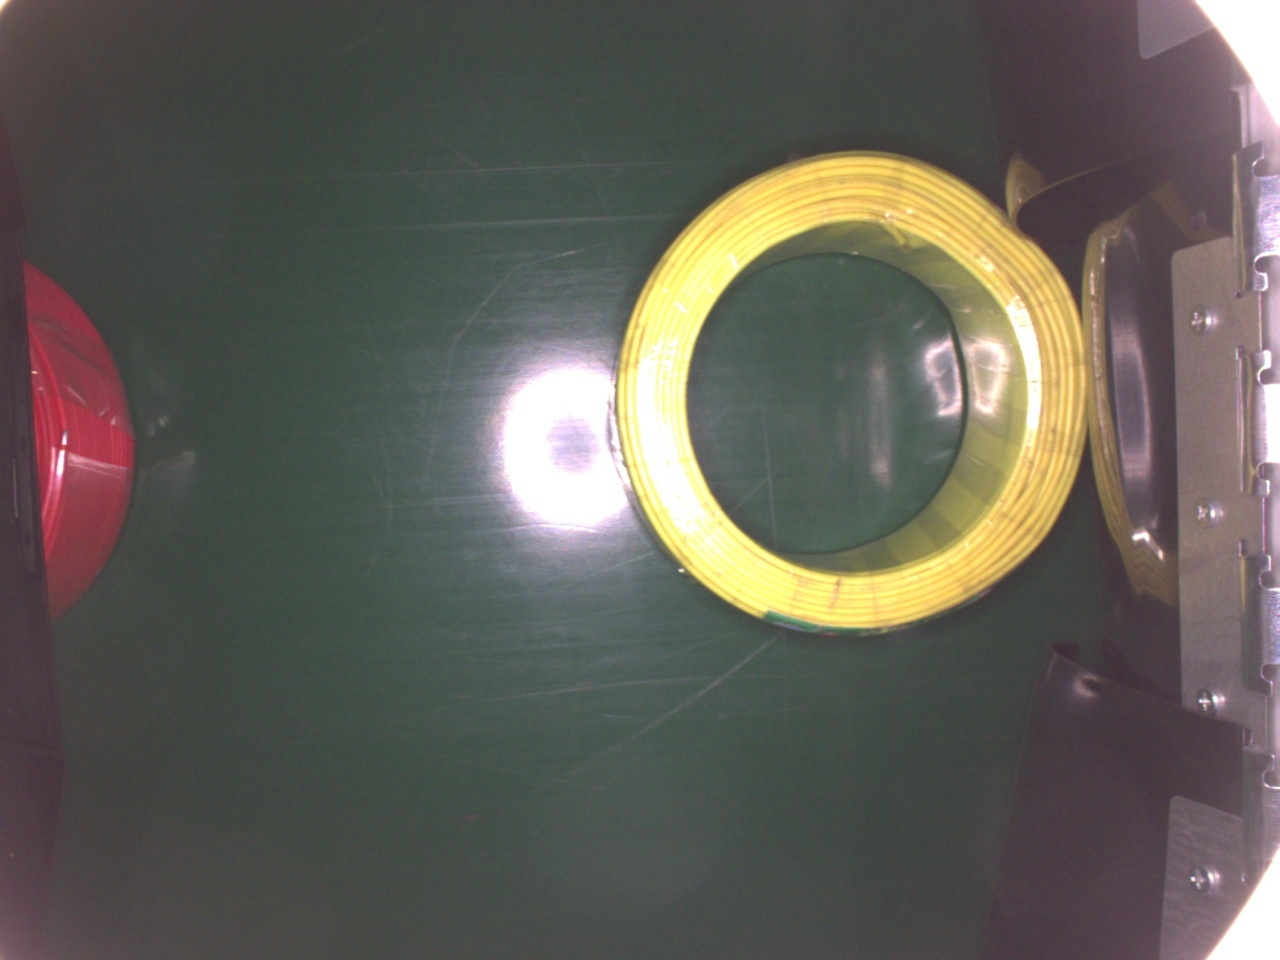yellow: (604, 143, 1091, 630)
